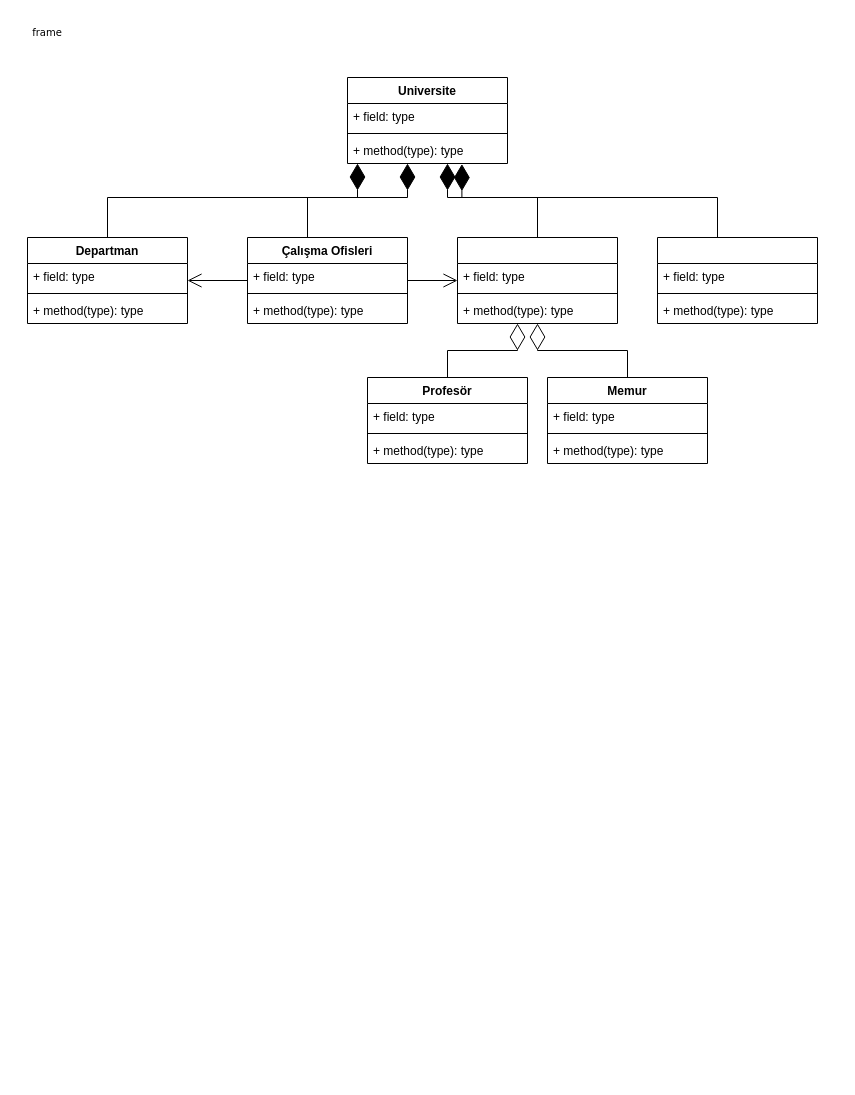
Some shapes in this 855 by 1095 pixel diagram are drawn without their labels. The shapes that lost their labels are listed below. From the top down, each one's box as (x1, y1, x2, y2) in pixels, then its label:
(456, 236, 618, 324): Çalışan
(656, 236, 818, 324): Sınıflar
